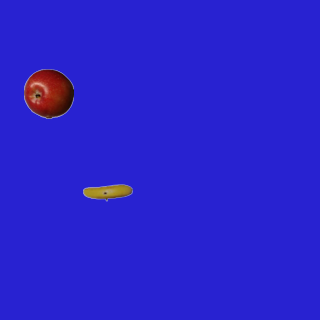Apple Braeburn: (23, 68, 73, 118)
Banana: (82, 167, 132, 217)
